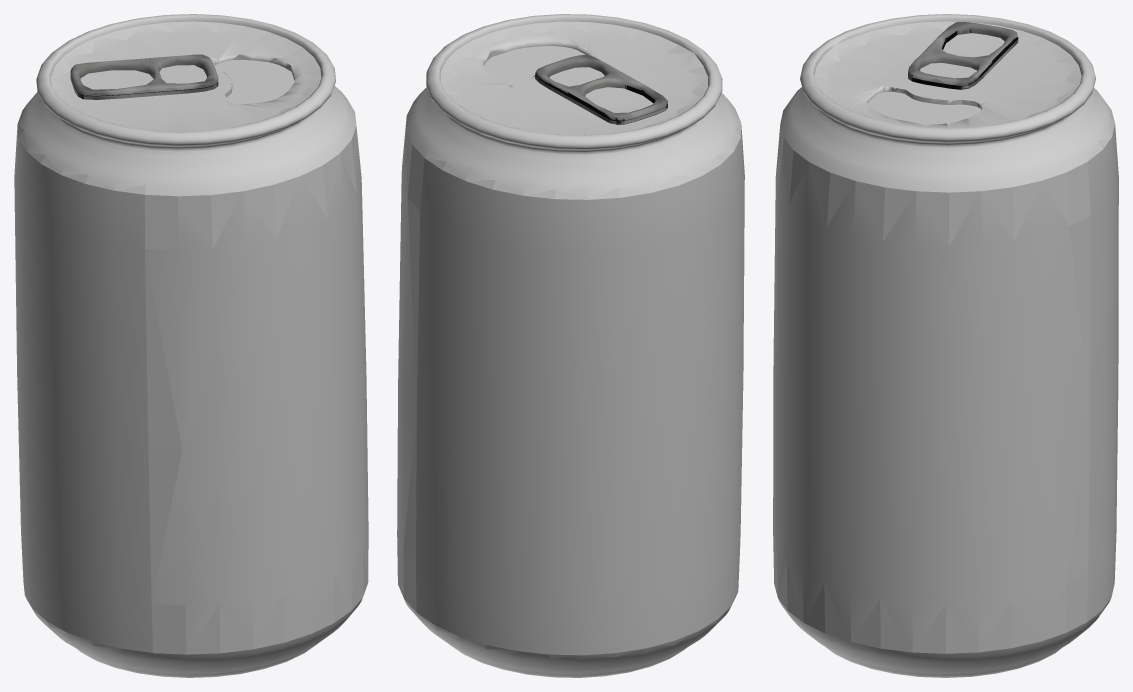
The model's file is Dose.fbx.
3 renders of one model, left to right at view 1: azimuth 30°, elevation 25°; view 2: azimuth 150°, elevation 25°; view 3: azimuth 270°, elevation 25°, orthographic.
Parts seen in each view (by area): view 1: can; view 2: can; view 3: can.
Part boxes in pixels (<box>): can: <box>14,14,368,677</box>; can: <box>397,14,744,677</box>; can: <box>773,14,1118,677</box>.
Size of the model in its own units: 2.45 by 4.29 by 2.4.
